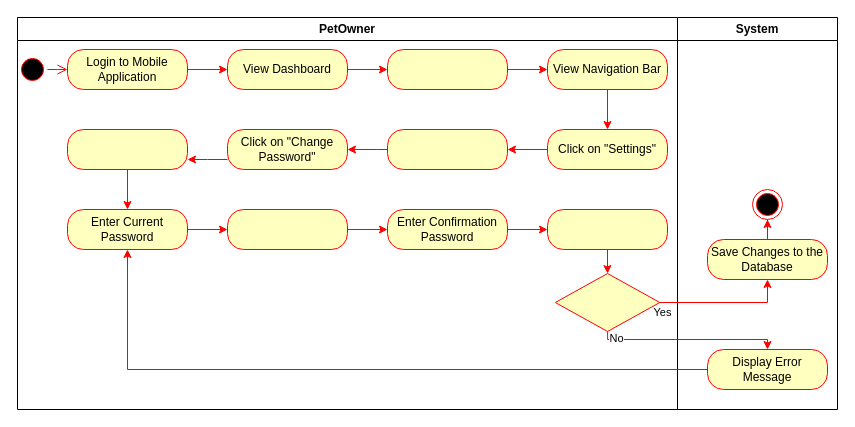
Image size: 855x427. Some labels were removed from this diagram. The shapes that lost their labels are listed below. From the top down, each one's centre as x and y in pixels, then its label:
point 447,69: Click on "Navigation Bar" Symbol
point 127,149: View "Change Password" Page
point 447,149: View Settings Page
point 287,229: Enter New Password
point 607,229: Click on "Change Password" Button
point 607,302: Is Information valid?
